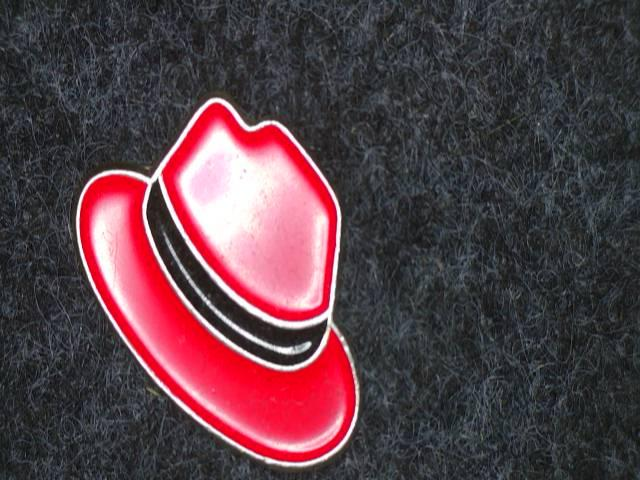Red-Hat: (41, 82, 421, 477)
